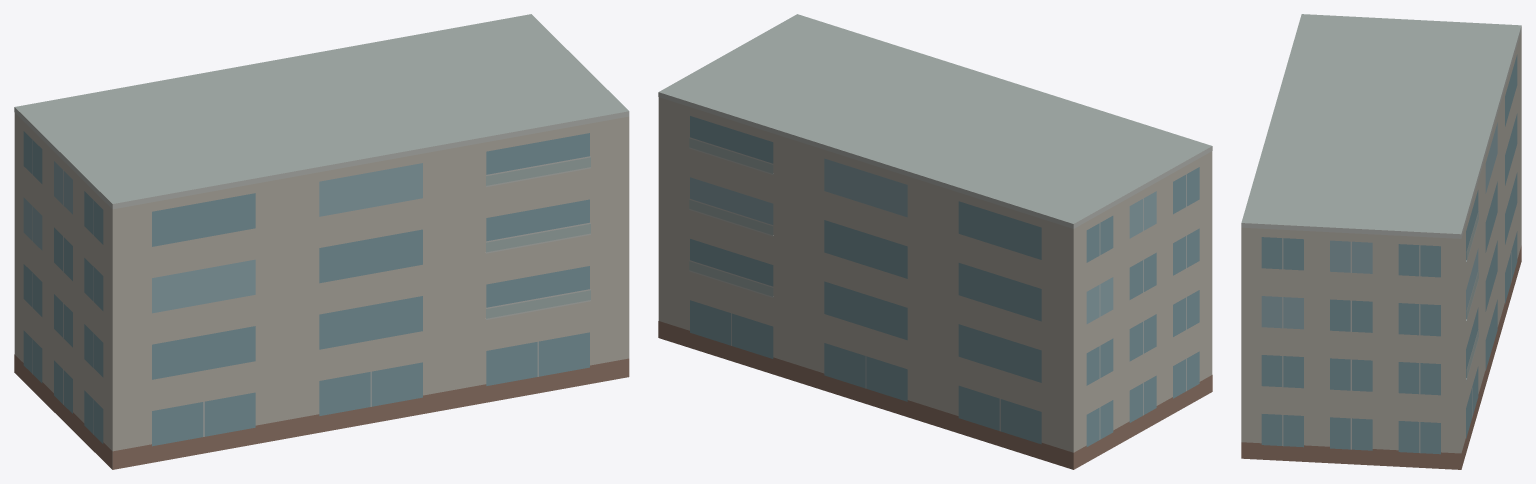
The model's file is residential-42c508f7-5414-473a-95d9-3b9c5fd1d786.glb.
3 renders of one model, left to right at view 1: azimuth 30°, elevation 25°; view 2: azimuth 150°, elevation 25°; view 3: azimuth 270°, elevation 25°, orthographic. The views are drawn at different scales.
Visible parts, largest first — view 1: residential-42c508f7-5414-473a-95d9-3b9c5fd1d786.tmp; view 2: residential-42c508f7-5414-473a-95d9-3b9c5fd1d786.tmp; view 3: residential-42c508f7-5414-473a-95d9-3b9c5fd1d786.tmp.
Boxes of the visible parts, left/top/right/bottom form: residential-42c508f7-5414-473a-95d9-3b9c5fd1d786.tmp: left=14, top=14, right=629, bottom=469; residential-42c508f7-5414-473a-95d9-3b9c5fd1d786.tmp: left=658, top=14, right=1212, bottom=469; residential-42c508f7-5414-473a-95d9-3b9c5fd1d786.tmp: left=1241, top=14, right=1521, bottom=469.
Size of the model in its own units: 24.46 by 12.2 by 13.16.
